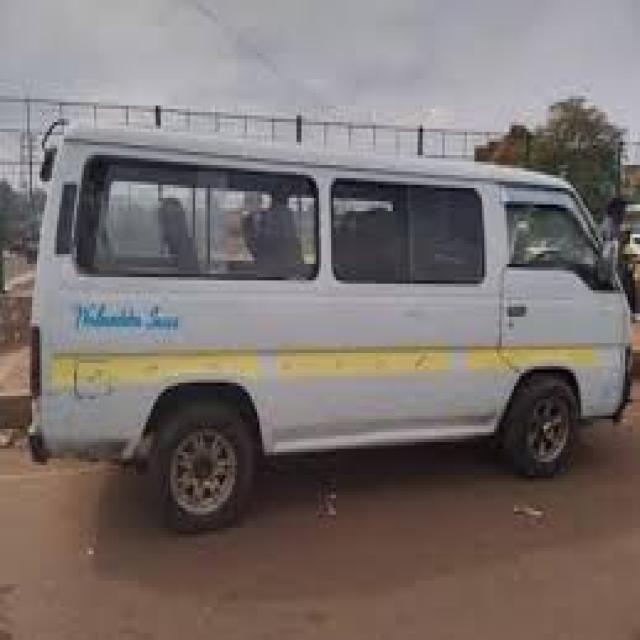matatu: (11, 71, 640, 573)
